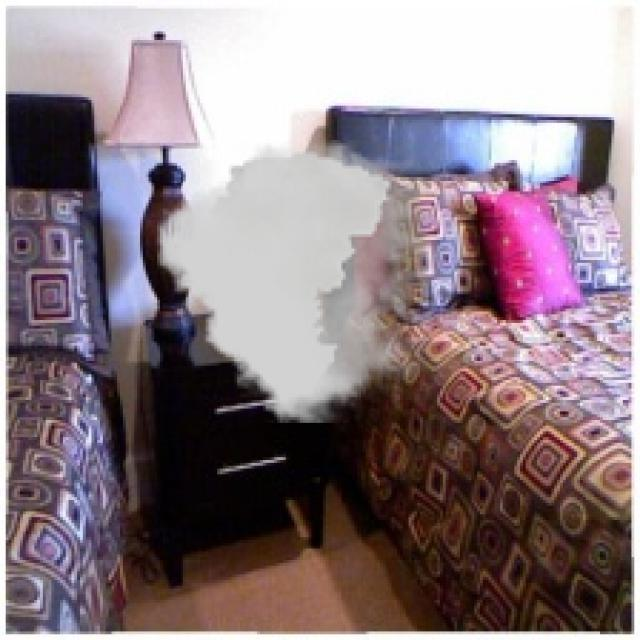Smoke: (157, 140, 432, 423)
